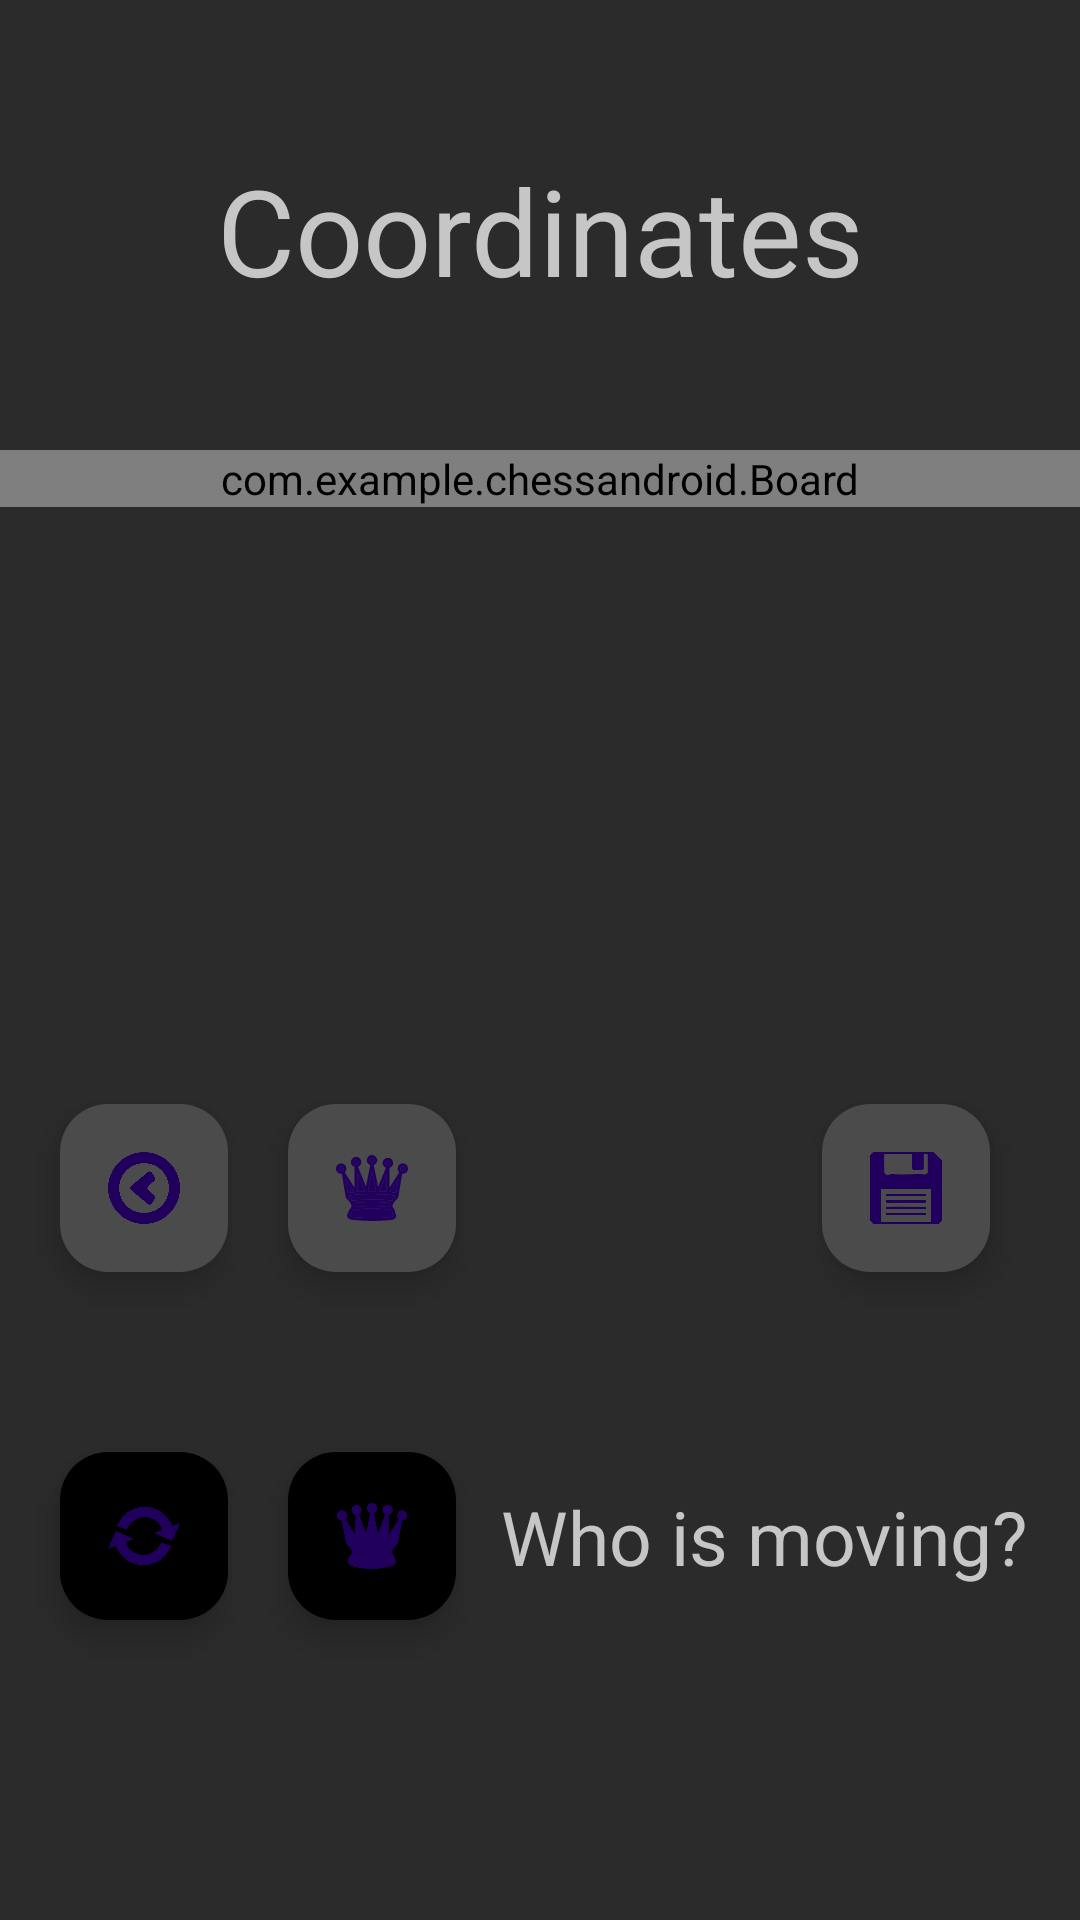

Screen size 1080×1920. Icon name, then its center in pixels as point (x, y):
back: point (144, 1188)
invert: point (144, 1536)
save: point (906, 1188)
